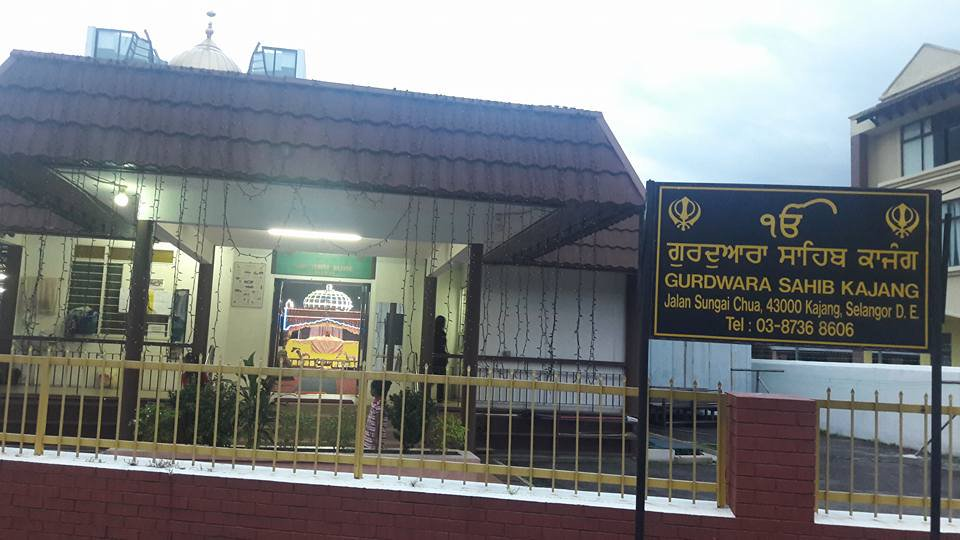Gurdwara: (6, 34, 951, 512)
